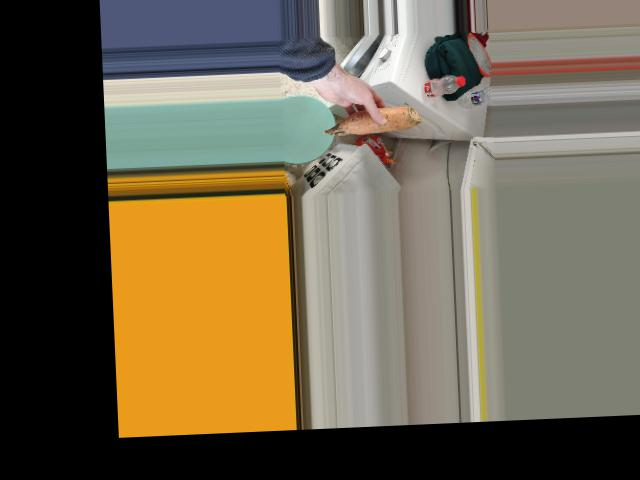sweet_potato: (321, 98, 425, 138)
